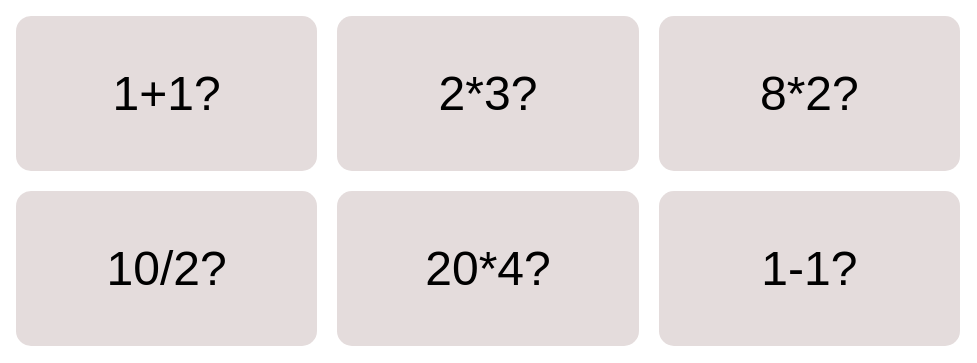
Test: App Component › only one answer is shown at a time
The image size is (977, 363).
Click the text "1+1?" at point(167, 94), box [113,66,221,121]
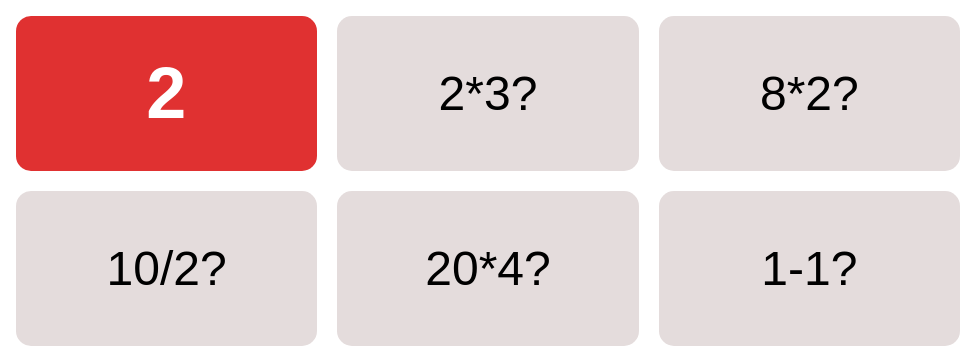
Expected: the text "2" is shown, [147,52,187,135]
Click the text "2*3?" at point(488, 94), box [439,66,537,121]
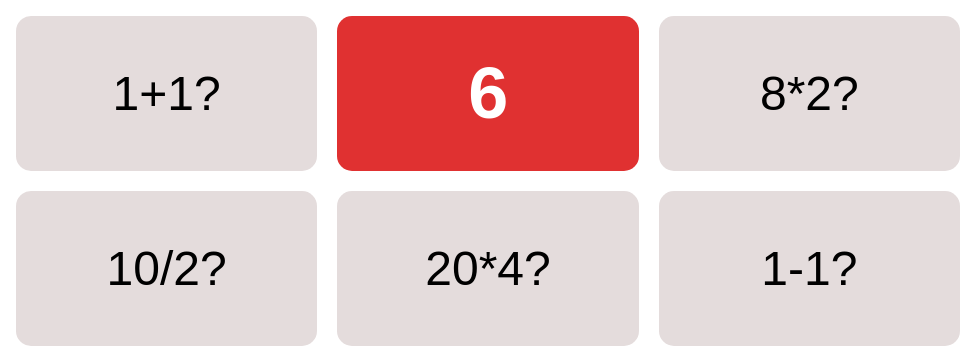
Expected: the text "6" is shown, [468,52,508,135]
